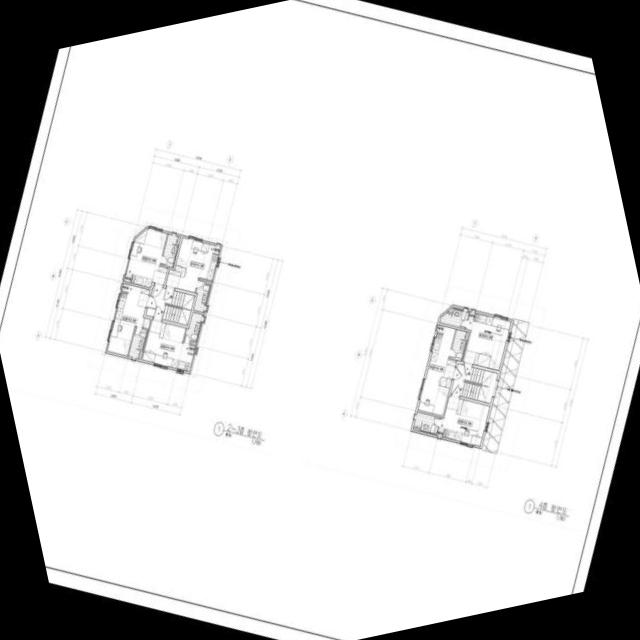background: (0, 0, 640, 640)
space_bedroom: (417, 326, 454, 415), (106, 285, 149, 355), (465, 317, 510, 370), (438, 399, 489, 445), (173, 237, 214, 292), (141, 323, 192, 366), (126, 228, 166, 279)
space_front: (445, 396, 462, 414), (148, 319, 165, 337), (151, 266, 167, 284), (165, 269, 180, 287), (136, 287, 149, 307), (443, 359, 455, 379), (462, 350, 478, 364)
space_kitchen: (429, 333, 441, 361), (114, 292, 126, 319), (205, 254, 217, 280), (130, 274, 151, 287), (170, 358, 190, 371), (442, 428, 461, 441), (474, 313, 493, 325)
space_other: (436, 324, 443, 333), (436, 428, 443, 436), (121, 283, 128, 291), (213, 245, 219, 254), (468, 311, 474, 319), (124, 274, 130, 282), (188, 345, 194, 353), (464, 331, 468, 339), (176, 236, 180, 244), (447, 307, 452, 312), (138, 351, 141, 359), (412, 427, 418, 430), (205, 280, 210, 283), (190, 341, 195, 344)
space_staircase: (145, 285, 194, 325), (450, 363, 496, 403)
space_toilet: (127, 327, 146, 358), (413, 411, 439, 433), (160, 234, 177, 267), (183, 312, 201, 343), (439, 309, 468, 328), (193, 279, 209, 312), (448, 329, 465, 360)
